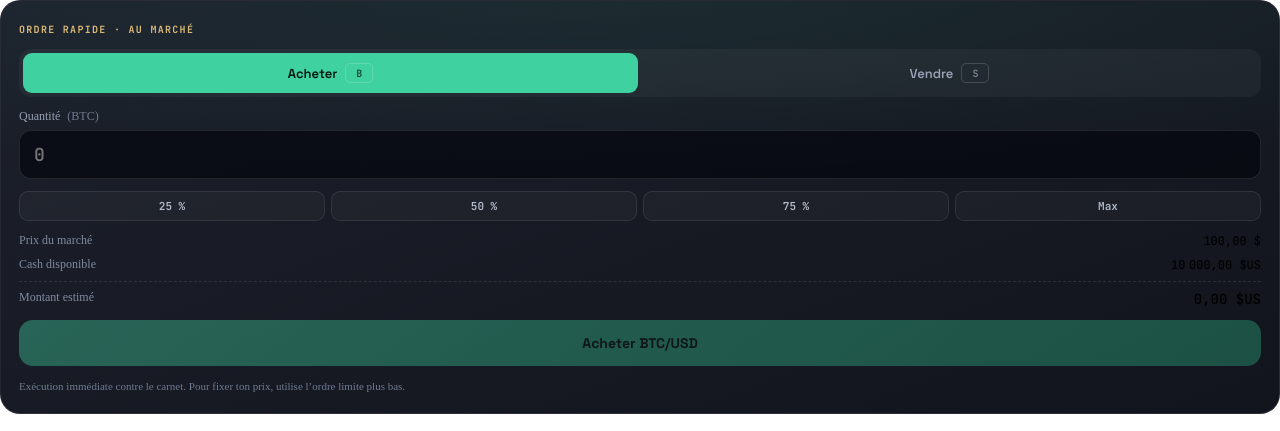
QuickTrade › envoie un ordre au marché et notifie l'exécution
In the number field: (640, 154) [19,130,1261,179], type "2"
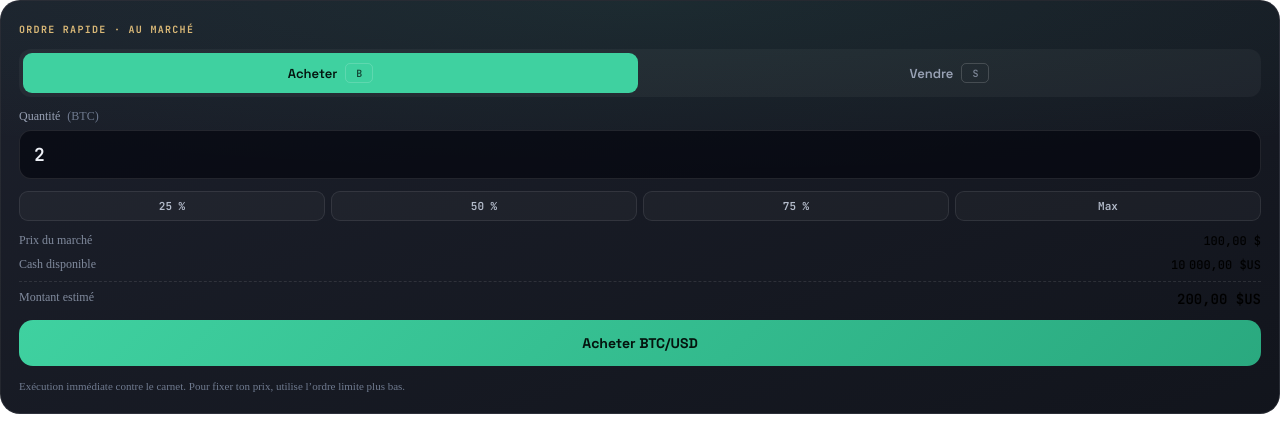
Click the button "Acheter BTC/USD": click(640, 343) [19,320,1261,366]
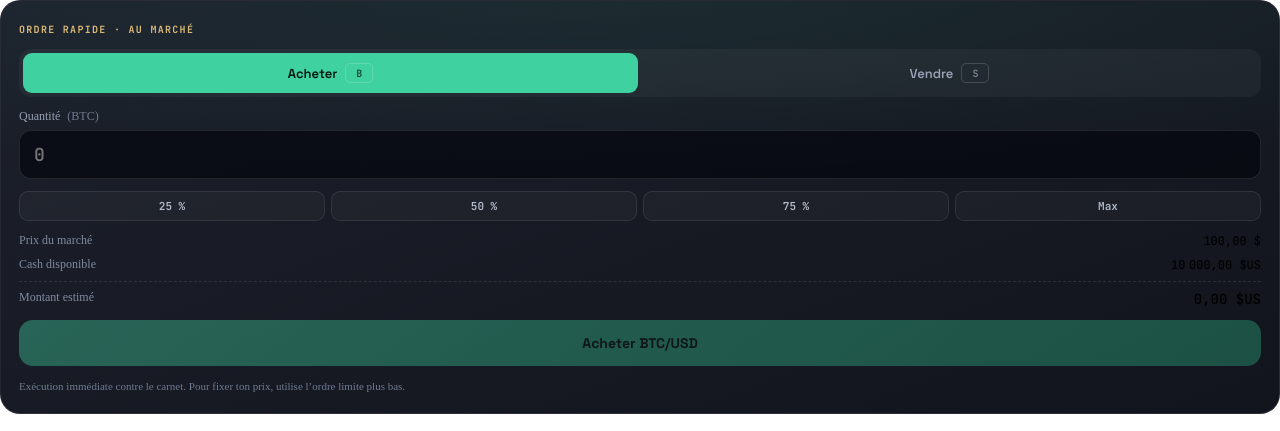
expect the number field is not empty: met, box [19,130,1261,179]
